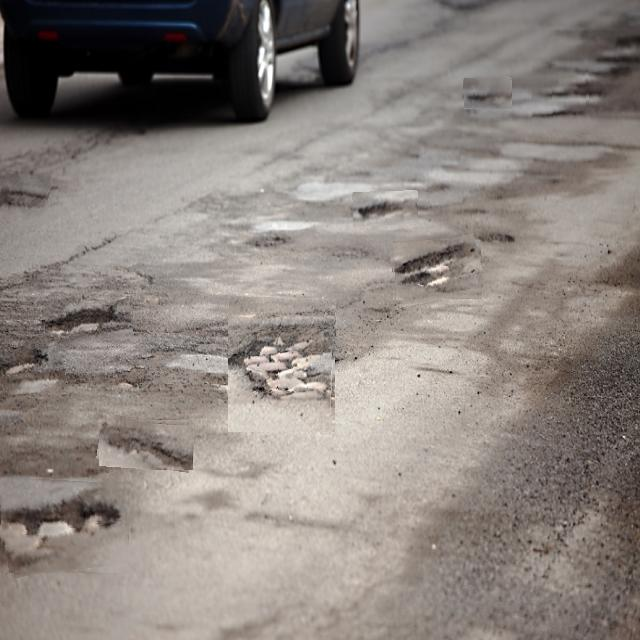Pothole: (228, 298, 336, 432), (2, 477, 132, 573), (532, 30, 640, 136), (391, 237, 482, 304), (98, 416, 194, 470), (45, 301, 133, 346), (0, 343, 66, 394), (0, 175, 49, 224), (353, 191, 418, 227), (464, 77, 512, 109)
